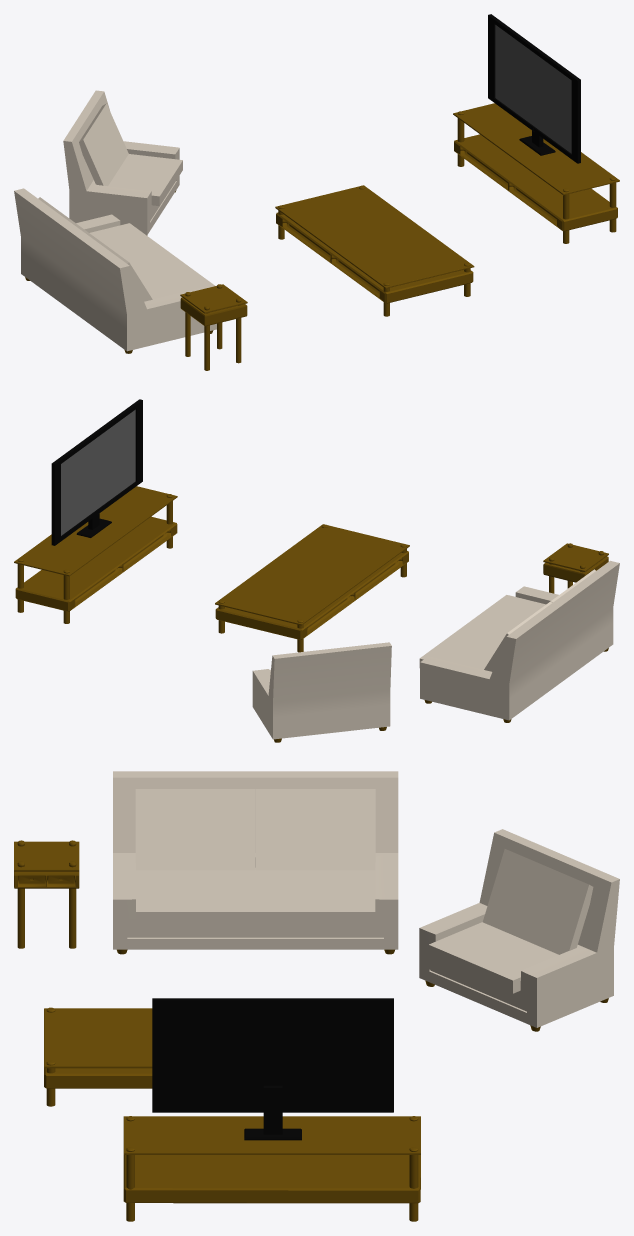
The model's file is LivingRoom.fbx.
The picture shows the model from 3 angles, top to bottom: view 1: azimuth 30°, elevation 25°; view 2: azimuth 150°, elevation 25°; view 3: azimuth 270°, elevation 25°; orthographic projection. The views are drawn at different scales.
Parts seen in each view (by area): view 1: polySurface1, pCube14, polySurface2, polySurface9, pCube15, pCube16, pCube13, polySurface7, pCube12, pCube11, pCube3, pCube7 (+2 smaller); view 2: polySurface1, polySurface2, pCube14, polySurface9, pCube15, pCube16, pCube13, polySurface7, pCube7, pCube3, pCube19, pCube18; view 3: polySurface8, polySurface1, polySurface2, pCube15, pCube16, pCube9, pasted__pCube8, pCube12, polySurface7, pCube7, pCube3, pCube14 (+5 smaller).
Boxes of the visible parts, bbox=[...] form: polySurface1: bbox=[14, 188, 216, 351]; pCube14: bbox=[275, 185, 474, 288]; polySurface2: bbox=[63, 90, 179, 235]; polySurface9: bbox=[495, 25, 571, 153]; pCube15: bbox=[454, 134, 617, 231]; pCube16: bbox=[453, 103, 619, 195]; pCube13: bbox=[276, 212, 473, 303]; polySurface7: bbox=[488, 14, 580, 163]; pCube12: bbox=[79, 103, 128, 185]; pCube11: bbox=[108, 154, 182, 206]; pCube3: bbox=[132, 256, 214, 299]; pCube7: bbox=[89, 223, 173, 265]; polySurface1: bbox=[420, 560, 619, 720]; polySurface2: bbox=[252, 642, 391, 739]; pCube14: bbox=[215, 524, 409, 625]; polySurface9: bbox=[61, 409, 135, 535]; pCube15: bbox=[15, 516, 177, 611]; pCube16: bbox=[14, 486, 177, 576]; pCube13: bbox=[215, 551, 408, 639]; polySurface7: bbox=[51, 399, 142, 545]; pCube7: bbox=[419, 626, 504, 669]; pCube3: bbox=[463, 595, 545, 636]; pCube19: bbox=[543, 543, 608, 571]; pCube18: bbox=[543, 556, 608, 582]; polySurface8: bbox=[168, 1005, 378, 1105]; polySurface1: bbox=[113, 771, 398, 949]; polySurface2: bbox=[419, 829, 619, 1027]; pCube15: bbox=[123, 1155, 420, 1203]; pCube16: bbox=[123, 1116, 420, 1154]; pCube9: bbox=[135, 789, 255, 870]; pasted__pCube8: bbox=[256, 789, 375, 870]; pCube12: bbox=[483, 849, 593, 954]; polySurface7: bbox=[152, 998, 393, 1112]; pCube7: bbox=[255, 868, 375, 924]; pCube3: bbox=[136, 870, 255, 924]; pCube14: bbox=[44, 1008, 152, 1068].
Size of the model in its own units: 663 by 190 by 513.
